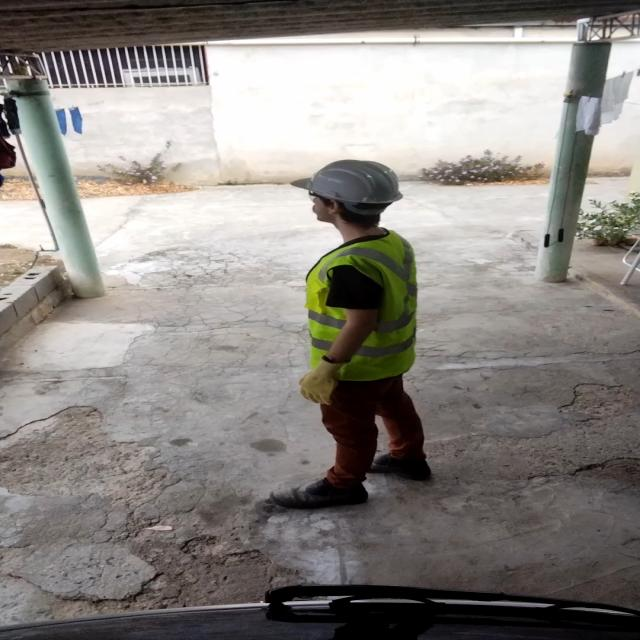glove: (296, 356, 353, 406)
helmet: (283, 158, 413, 216)
pants: (301, 373, 425, 472)
vest: (301, 232, 428, 378)
